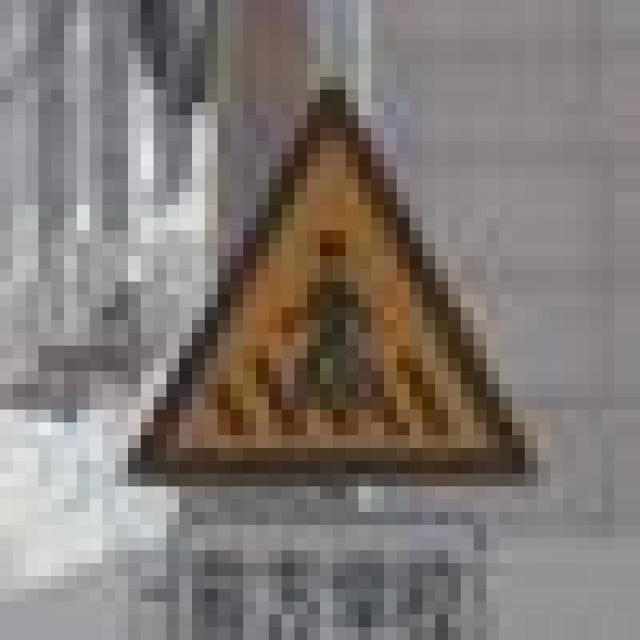pass_either_side: (102, 64, 538, 474)
